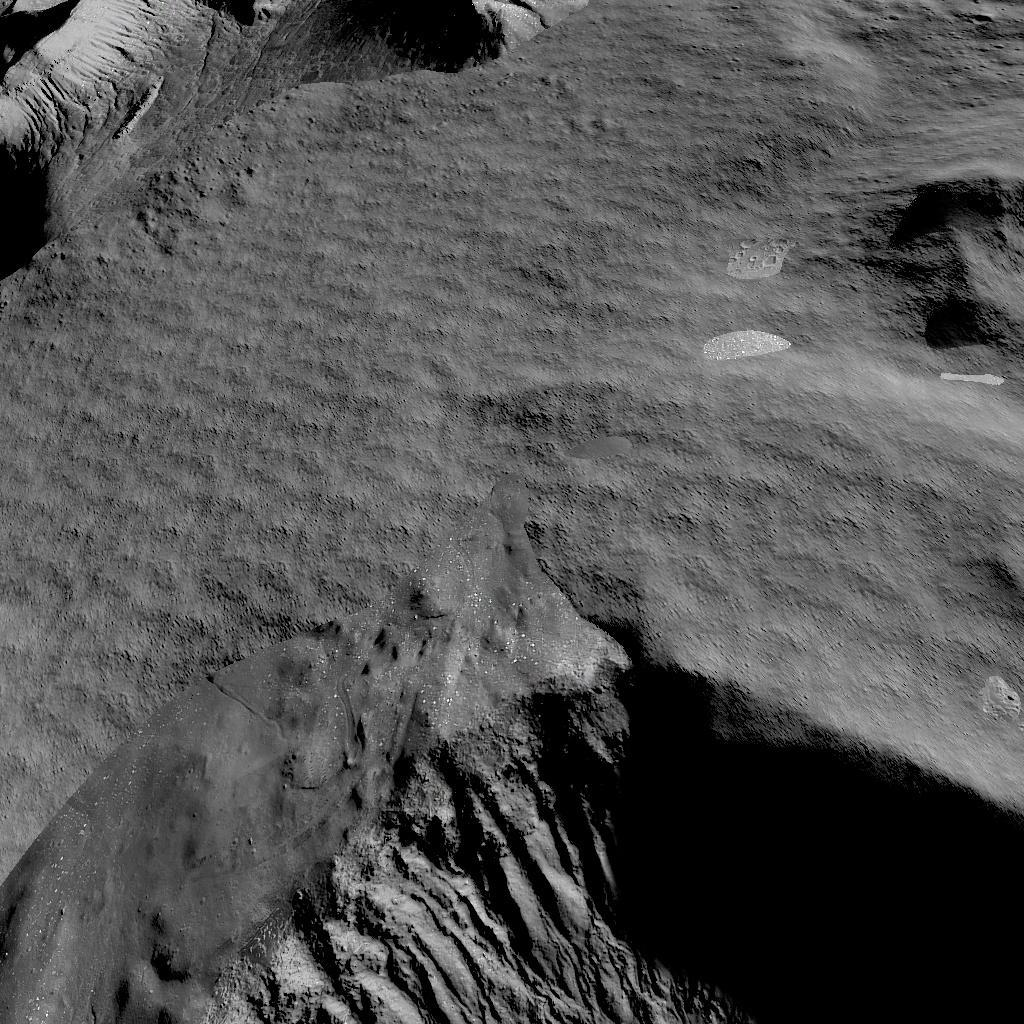Boulders: (0, 0, 588, 272)
Crater: (0, 514, 1024, 1024), (844, 159, 1024, 367)
Plan surface: (4, 304, 800, 480), (622, 0, 930, 128)
